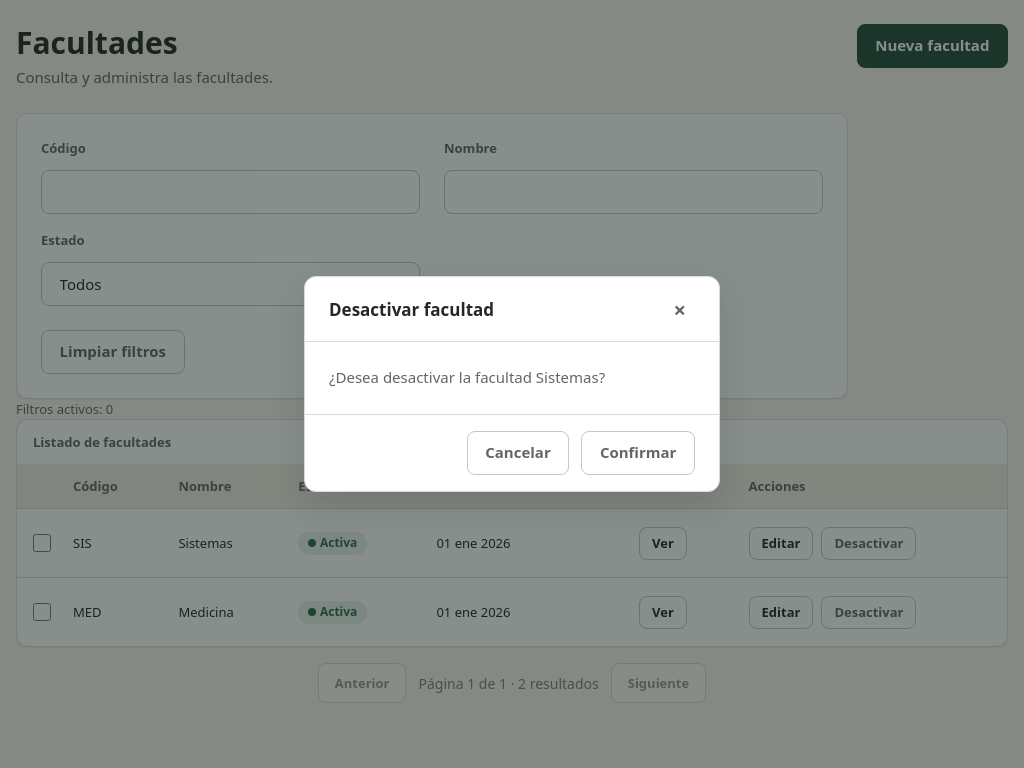
Test: ListadoFacultadesComponent › muestra conflicto por carreras activas al desactivar
Click the button "Confirmar".
click(638, 453)  # box [581,431,695,475]
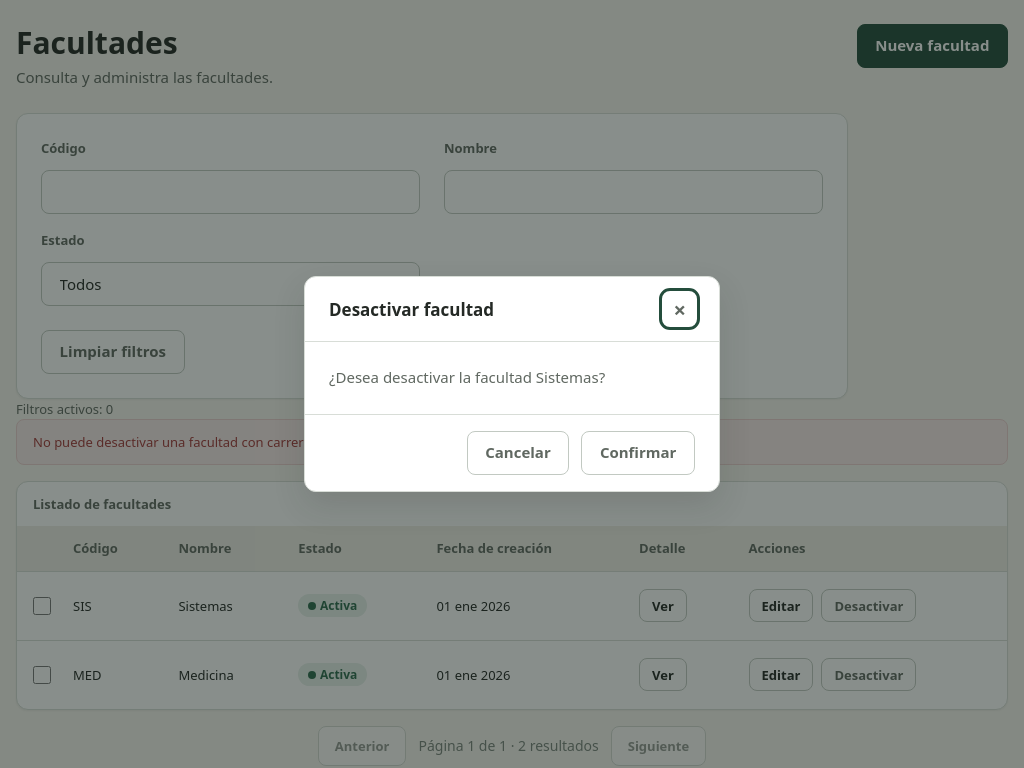
Expected: the text "No puede desactivar una facultad con carreras activas." is shown, [16,419,1008,465]
